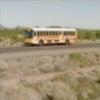buses: (24, 28, 78, 47)
